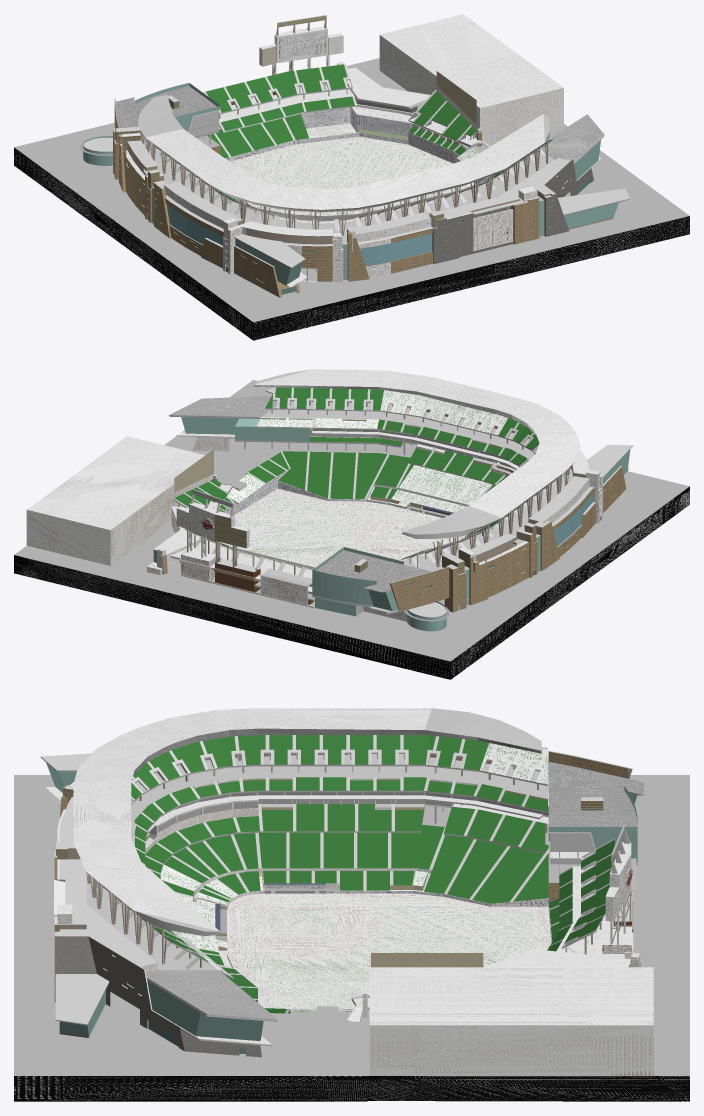
Rendered from TargetField.glb.
The picture shows the model from 3 angles, top to bottom: view 1: azimuth 30°, elevation 25°; view 2: azimuth 150°, elevation 25°; view 3: azimuth 270°, elevation 25°; orthographic projection. The views are drawn at different scales.
Visible parts, largest first — view 1: instance_1.1441, instance_1.1014, instance_1.1522, instance_1.1595, instance_1.521, instance_1.1594, instance_1.326, instance_1.006, instance_1.1521, instance_1.518, instance_1.638, instance_1.799 (+31 smaller); view 2: instance_1.1441, instance_1.1014, instance_1.1522, instance_1.1595, instance_1.1594, instance_1.326, instance_1.432, instance_1.521, instance_1.223, instance_1.518, instance_1.520, instance_1.638 (+31 smaller); view 3: instance_1.1441, instance_1.1522, instance_1.1014, instance_1.1595, instance_1.1594, instance_1.326, instance_1.627, instance_1.518, instance_1.638, instance_1.1406, instance_1.799, instance_1.212 (+53 smaller).
Part boxes in pixels (x1,y1,x2,y2): instance_1.1441: (14,58,689,322); instance_1.1014: (14,147,689,340); instance_1.1522: (139,95,544,209); instance_1.1595: (380,14,563,108); instance_1.521: (153,183,343,297); instance_1.1594: (379,35,563,142); instance_1.326: (141,135,554,244); instance_1.006: (225,107,484,183); instance_1.1521: (138,114,549,212); instance_1.518: (116,86,216,127); instance_1.638: (540,114,604,161); instance_1.799: (440,157,572,219); instance_1.1441: (14,380,689,661); instance_1.1014: (14,486,689,679); instance_1.1522: (255,369,580,534); instance_1.1595: (27,436,205,529); instance_1.1594: (26,475,211,565); instance_1.326: (262,401,572,571); instance_1.432: (389,566,466,612); instance_1.521: (539,466,626,570); instance_1.223: (181,417,309,441); instance_1.518: (316,550,431,591); instance_1.520: (479,534,537,597); instance_1.638: (169,396,277,417); instance_1.1441: (14,775,689,1075); instance_1.1522: (73,708,541,931); instance_1.1014: (14,1076,689,1101); instance_1.1595: (369,967,653,1025); instance_1.1594: (369,1025,653,1075); instance_1.326: (86,754,548,970); instance_1.627: (54,936,261,1057); instance_1.518: (548,762,643,826); instance_1.638: (146,970,277,1019); instance_1.1406: (250,903,378,957); instance_1.799: (54,859,156,969); instance_1.212: (453,803,636,958).
Bounding box in the file's own units: 258 × 56.99 × 245.
Materials: 45 (11 with a texture image).
